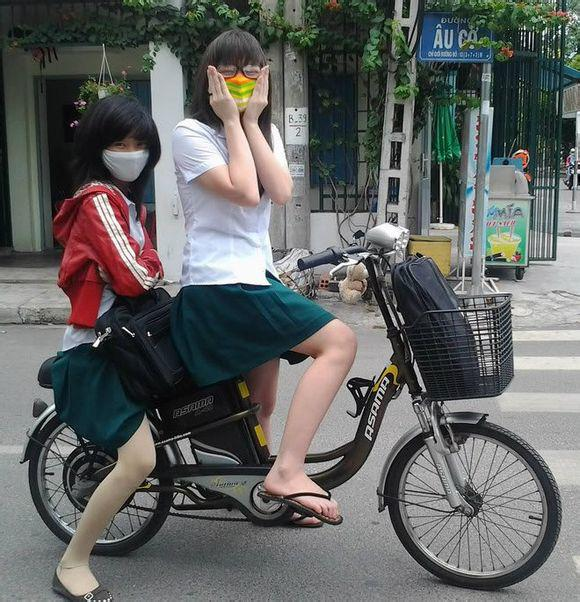OK: (207, 57, 268, 111), (99, 134, 149, 184)
